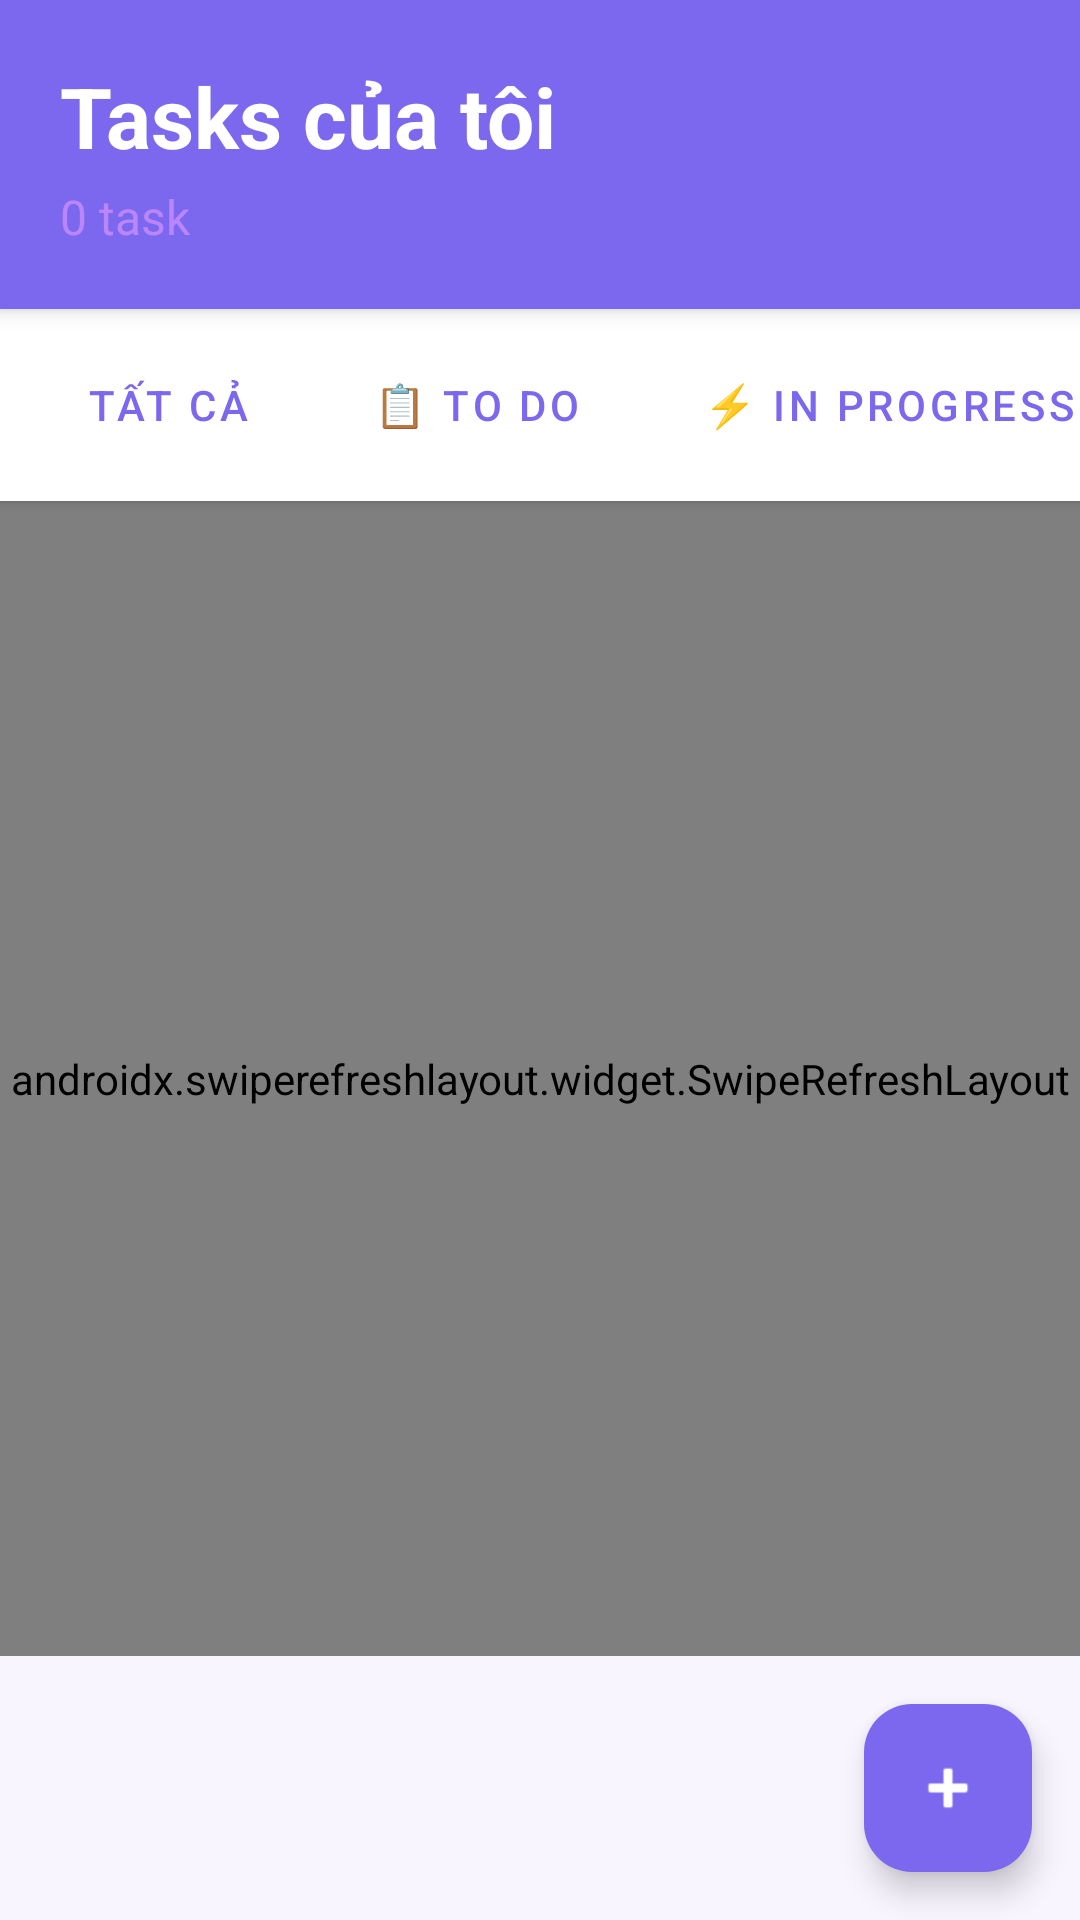

Icon bounding boxes for this 1080x1920 phone screenshot, format (x1, y1, x2, y2):
Create Task: (864, 1704, 1032, 1872)
